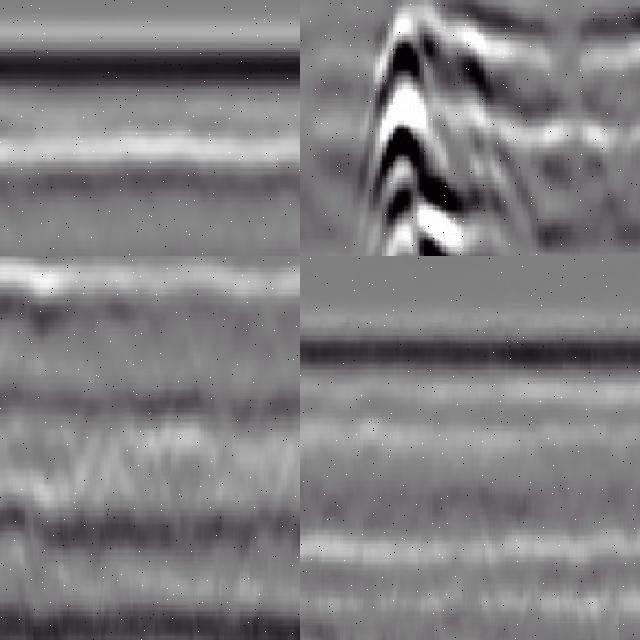loose: (352, 1, 640, 257)
